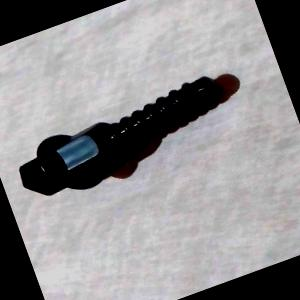parafuso: (13, 70, 241, 206)
